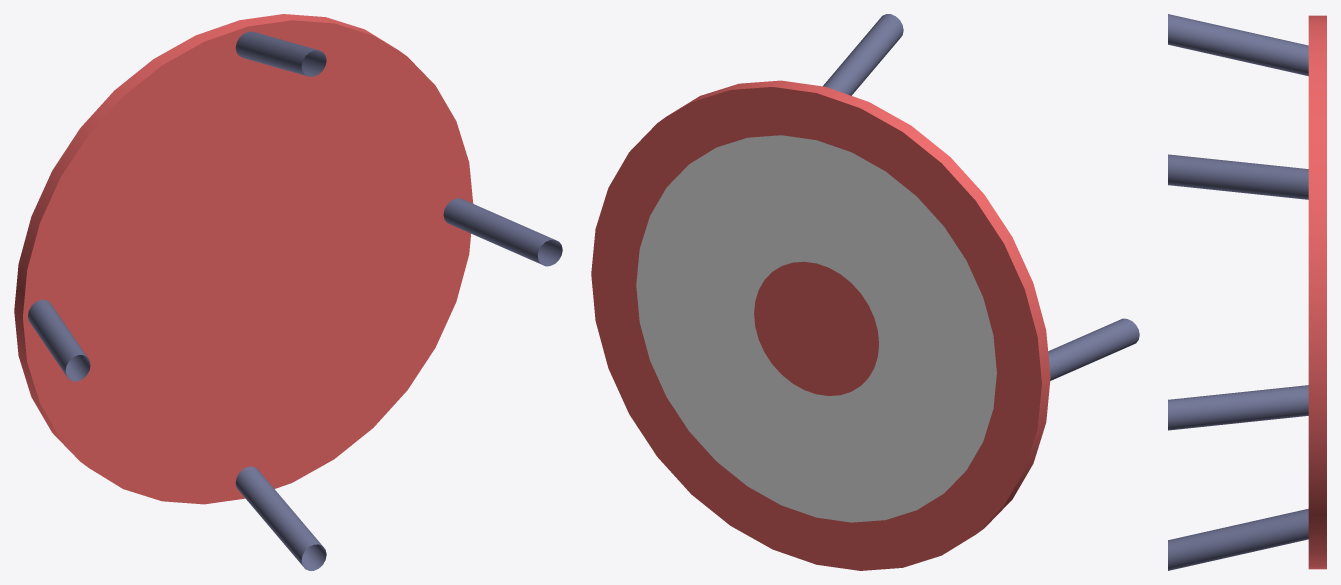
File: Batut.fbx
The picture shows the model from 3 angles, left to right: view 1: azimuth 30°, elevation 25°; view 2: azimuth 150°, elevation 25°; view 3: azimuth 270°, elevation 25°; orthographic projection. The views are drawn at different scales.
Visible parts, largest first — view 1: Cylinder.003; view 2: Cylinder.003; view 3: Cylinder.003.
Boxes of the visible parts, x1,y1,x2,y2 form: Cylinder.003: (14, 14, 562, 570); Cylinder.003: (591, 14, 1139, 570); Cylinder.003: (1168, 14, 1326, 570).
Bounding box in the file's own units: 583 × 583 × 151.
Materials: 1 (1 with a texture image).
